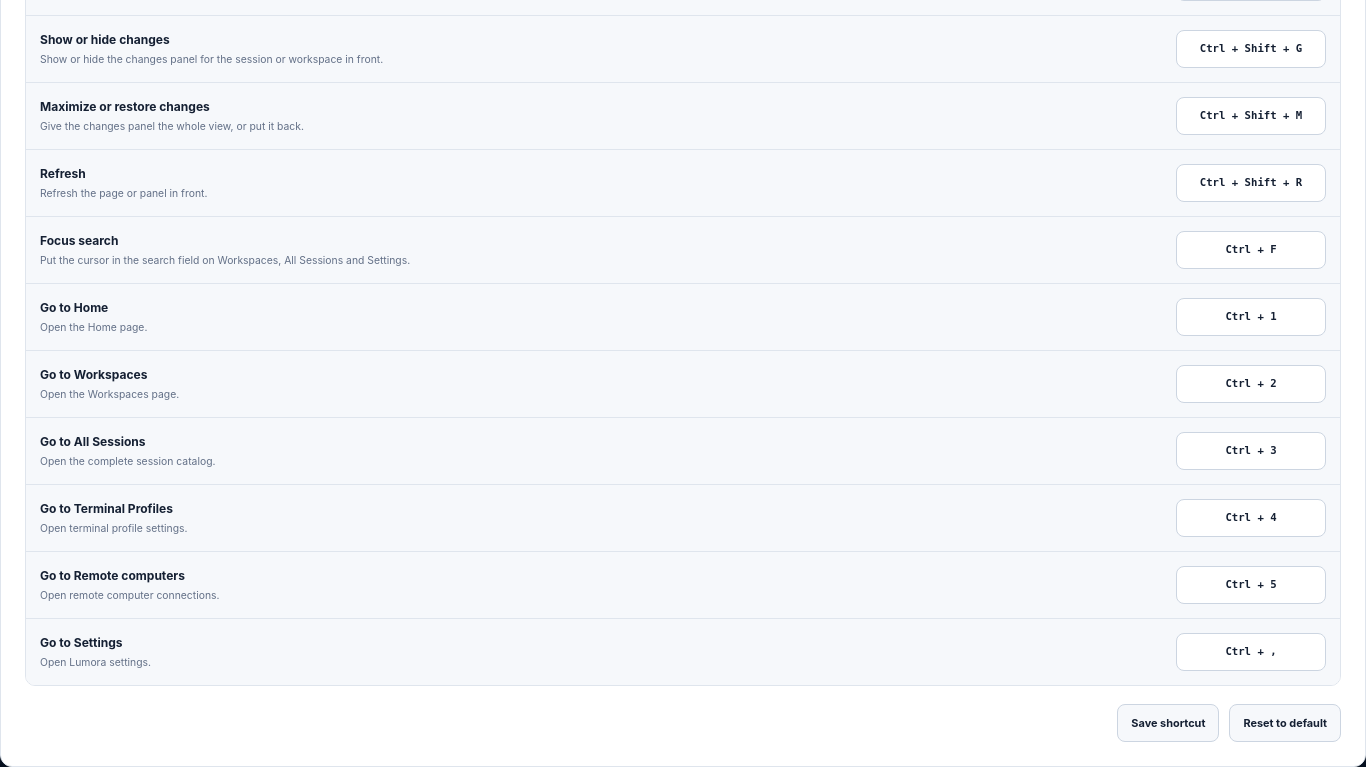
KeyboardShortcutsPanel › resets the shortcut to the default after persistence succeeds
(page scrolled)
Click the button "Reset to default" at (1285, 723), box [1229,704,1341,742]
(page scrolled)
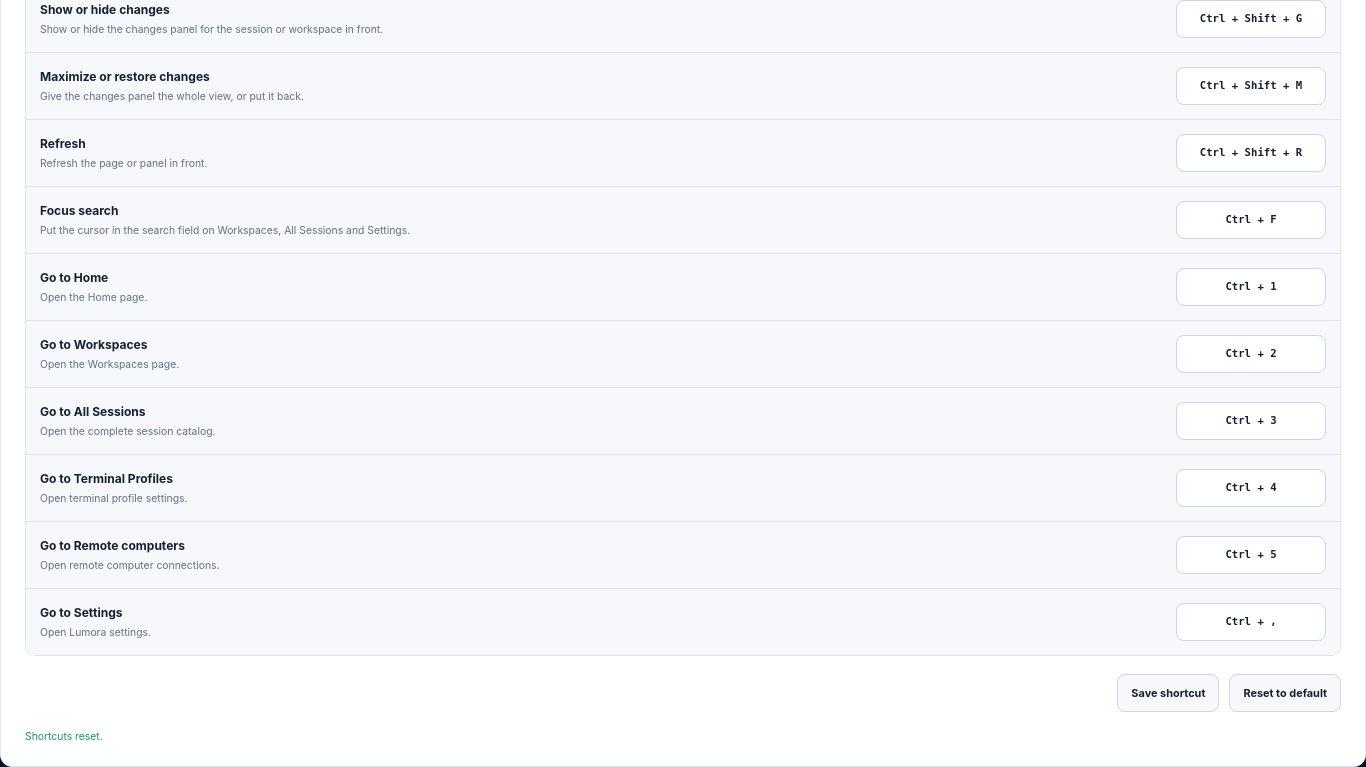
Result: the message shows "Shortcuts reset" at [25,730,103,742]
